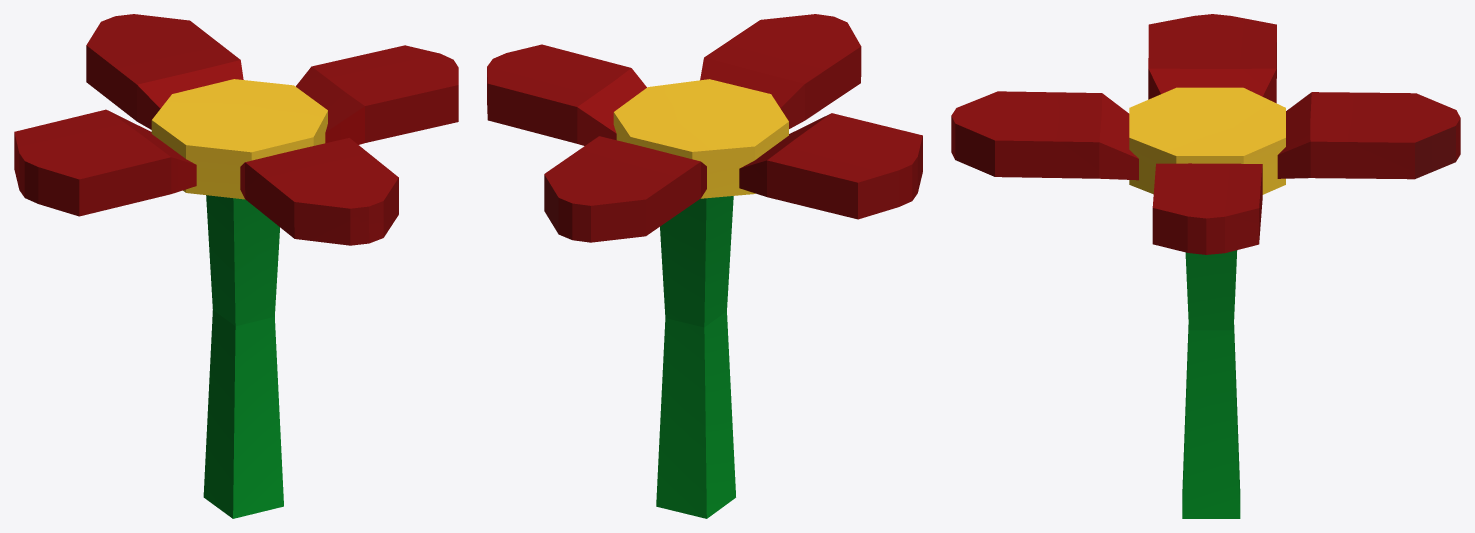
The model's file is Flor2.fbx.
3 views of the same model, side by side, from view 1: azimuth 30°, elevation 25°; view 2: azimuth 150°, elevation 25°; view 3: azimuth 270°, elevation 25° (orthographic).
Visible parts, largest first — view 1: Flor2; view 2: Flor2; view 3: Flor2.
Boxes of the visible parts, <box> form: Flor2: <box>14,14,458,518</box>; Flor2: <box>487,14,922,518</box>; Flor2: <box>951,14,1460,518</box>.
Bounding box in the file's own units: 1666 × 1754 × 1474.
